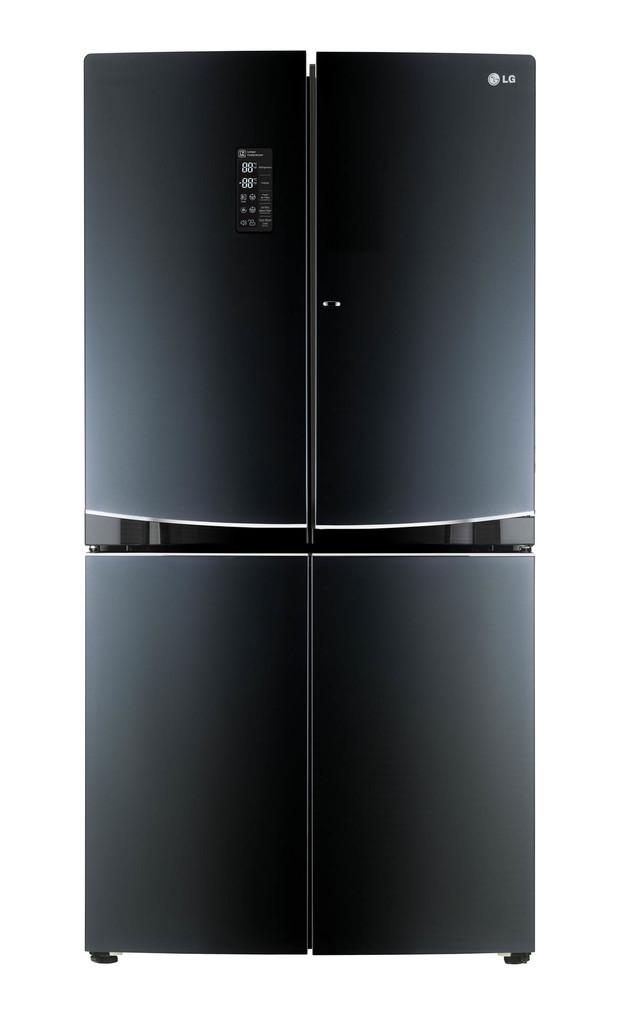handle: (79, 498, 307, 589), (316, 499, 532, 589)
